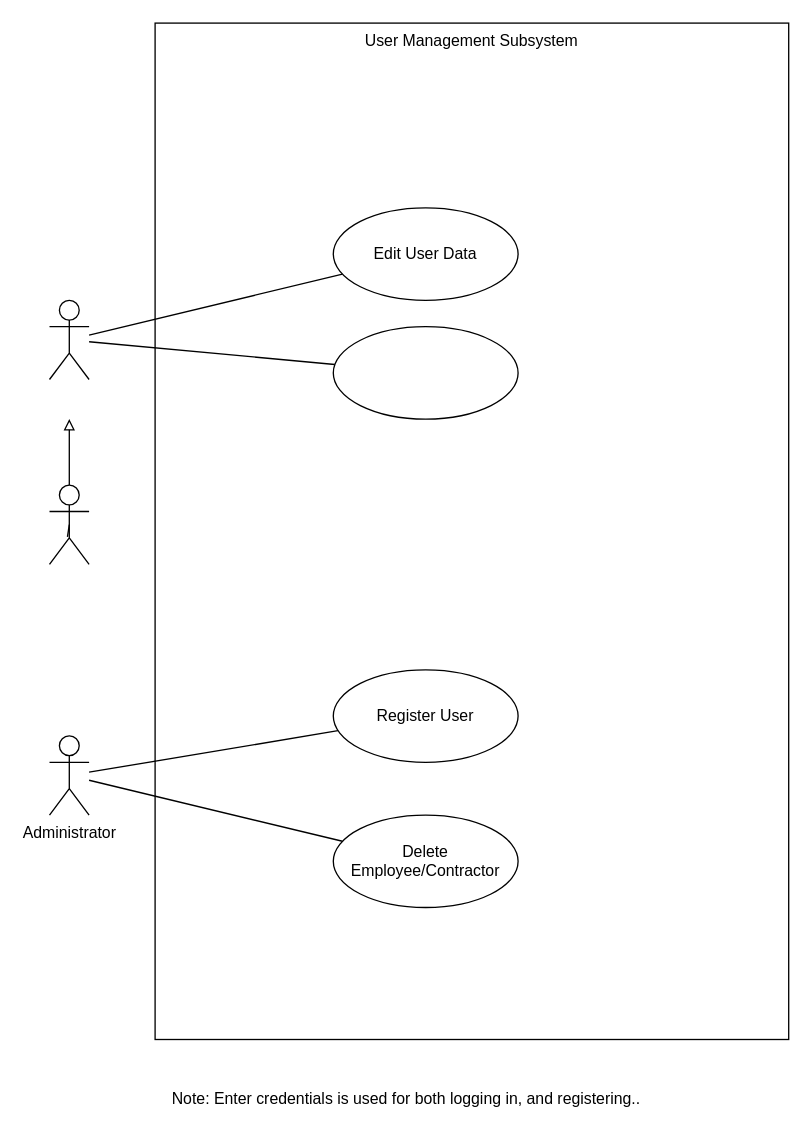
The diagram is 812 pixels wide and 1142 high, and some of its shapes have lost their labels. Each missing label, with the centre of its shape:
"Contractor" goes at (68,524).
"Employee" goes at (68,339).
"Upload Documents" goes at (425,372).
